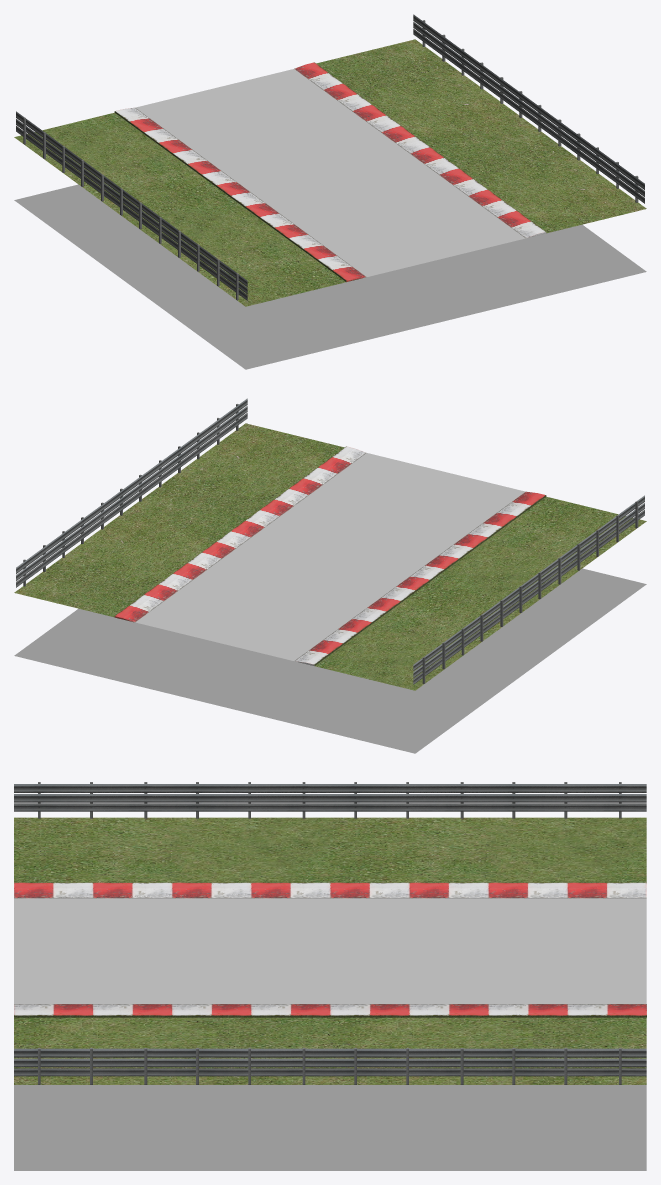
The model's file is Track_Thin_Straight_Mobile.fbx.
3 renders of one model, top to bottom at view 1: azimuth 30°, elevation 25°; view 2: azimuth 150°, elevation 25°; view 3: azimuth 270°, elevation 25°, orthographic. The views are drawn at different scales.
Parts seen in each view (by area): view 1: Grass, Snap_Plane_Invisible, Road, Curb_B, Rail_B, Rail_A, Curb_A; view 2: Grass, Snap_Plane_Invisible, Road, Curb_B, Rail_A, Rail_B, Curb_A; view 3: Grass, Road, Snap_Plane_Invisible, Rail_B, Rail_A, Curb_A, Curb_B.
Part boxes in pixels (x1,y1,x2,y2): Grass: (14,39,646,306); Snap_Plane_Invisible: (14,184,646,369); Road: (135,69,525,276); Curb_B: (294,62,546,238); Rail_B: (413,14,644,203); Rail_A: (16,111,247,300); Curb_A: (114,107,366,281); Grass: (14,423,646,690); Snap_Plane_Invisible: (14,568,646,753); Road: (135,453,525,660); Curb_B: (114,446,366,622); Rail_A: (413,495,644,684); Rail_B: (16,398,247,587); Curb_A: (294,491,546,665); Grass: (14,817,646,1084); Road: (14,898,646,1003); Snap_Plane_Invisible: (14,1085,646,1170); Rail_B: (14,1048,646,1084); Rail_A: (14,782,646,818); Curb_A: (14,882,646,898); Curb_B: (14,1004,646,1017).
Bounding box in the file's own units: 20 × 4.24 × 20.01.
